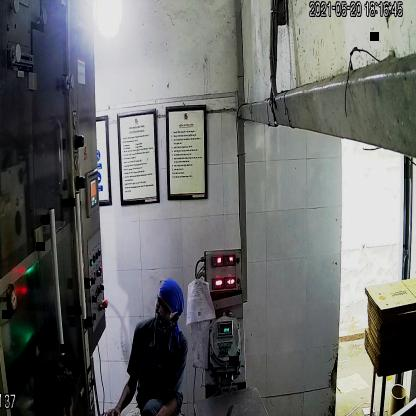goggles: (154, 294, 178, 321)
